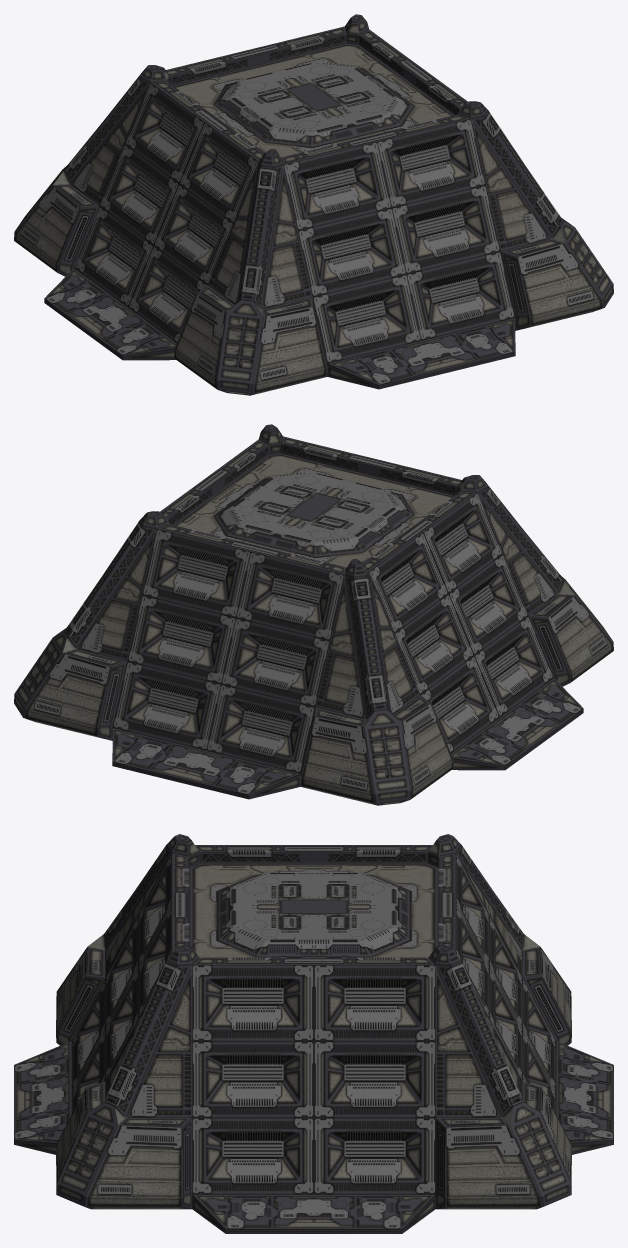
File: house2_fbx.fbx
The picture shows the model from 3 angles, top to bottom: view 1: azimuth 30°, elevation 25°; view 2: azimuth 150°, elevation 25°; view 3: azimuth 270°, elevation 25°; orthographic projection. The views are drawn at different scales.
Parts seen in each view (by area): view 1: big_house1; view 2: big_house1; view 3: big_house1.
Part boxes in pixels (x1,y1,x2,y2): big_house1: (14,14,613,395); big_house1: (14,424,613,805); big_house1: (14,834,613,1233).
Size of the model in its own units: 3734 by 1473 by 3736.
1 material, 1 textured.
